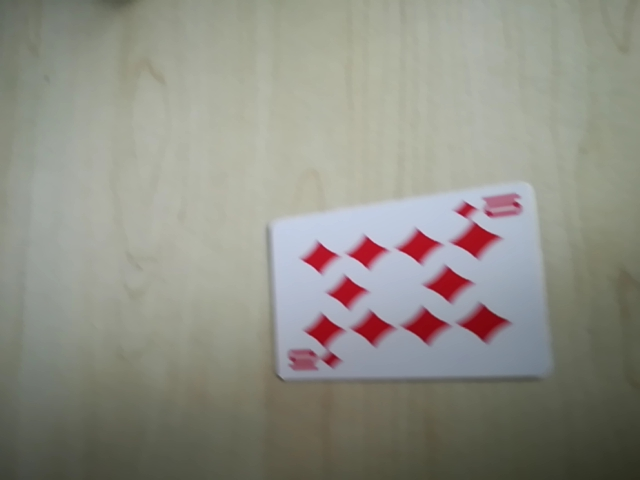fk 10: (451, 189, 531, 227), (283, 345, 344, 378)
